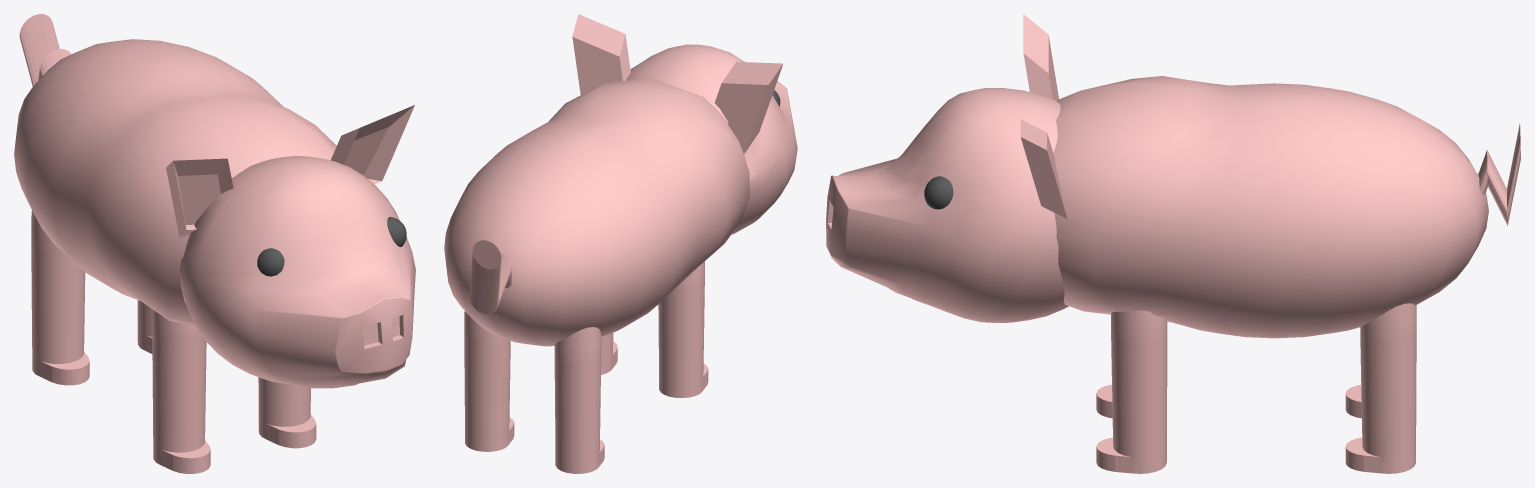
File: Pig.fbx
3 renders of one model, left to right at view 1: azimuth 30°, elevation 25°; view 2: azimuth 150°, elevation 25°; view 3: azimuth 270°, elevation 25°, orthographic. The views are drawn at different scales.
Parts seen in each view (by area): view 1: pSphere16, pSphere20, pCylinder16, pCylinder17, pCylinder15, pCube2, pCube1, pCylinder20, pCylinder18, pSphere18, pSphere19; view 2: pSphere16, pSphere20, pCylinder17, pCylinder18, pCylinder16, pCube2, pCube1, pCylinder20, pCylinder15; view 3: pSphere16, pSphere20, pCylinder18, pCylinder15, pCube1, pCube2, pCylinder20, pSphere19.
Part boxes in pixels (left/top/right/bottom): pSphere16: left=14, top=39, right=336, bottom=326; pSphere20: left=180, top=156, right=415, bottom=388; pCylinder16: left=152, top=309, right=210, bottom=473; pCylinder17: left=31, top=210, right=89, bottom=385; pCylinder15: left=258, top=377, right=316, bottom=448; pCube2: left=166, top=158, right=233, bottom=237; pCube1: left=331, top=105, right=414, bottom=184; pCylinder20: left=19, top=14, right=71, bottom=86; pCylinder18: left=137, top=300, right=152, bottom=353; pSphere18: left=257, top=248, right=284, bottom=276; pSphere19: left=387, top=217, right=406, bottom=246; pSphere16: left=444, top=79, right=749, bottom=346; pSphere20: left=625, top=44, right=797, bottom=234; pCylinder17: left=554, top=327, right=604, bottom=473; pCylinder18: left=464, top=311, right=514, bottom=451; pCylinder16: left=658, top=261, right=708, bottom=397; pCube2: left=714, top=61, right=782, bottom=153; pCube1: left=572, top=14, right=630, bottom=94; pCylinder20: left=469, top=240, right=511, bottom=314; pCylinder15: left=601, top=333, right=617, bottom=374; pSphere16: left=1053, top=76, right=1488, bottom=338; pSphere20: left=826, top=88, right=1068, bottom=323; pCylinder18: left=1345, top=303, right=1416, bottom=473; pCylinder15: left=1096, top=310, right=1167, bottom=473; pCube1: left=1020, top=119, right=1067, bottom=218; pCube2: left=1023, top=14, right=1058, bottom=100; pCylinder20: left=1477, top=123, right=1520, bottom=225; pSphere19: left=924, top=176, right=953, bottom=209.
Size of the model in its own units: 1.54 by 2.16 by 3.73.
